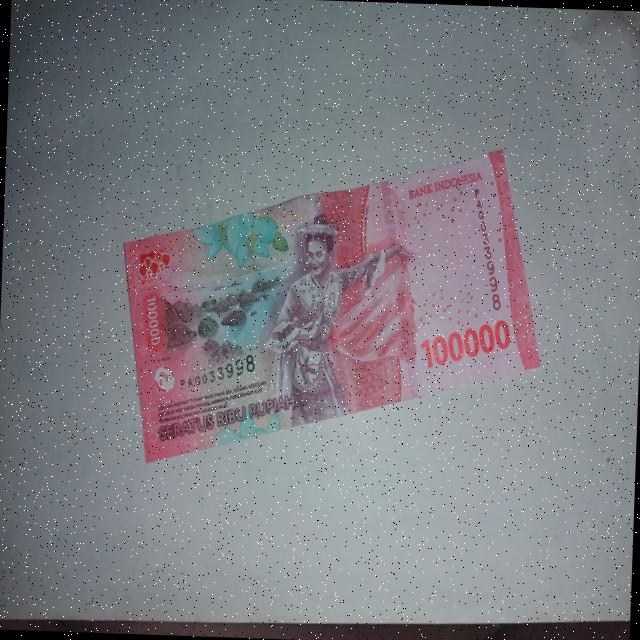100K: (113, 130, 552, 480)
